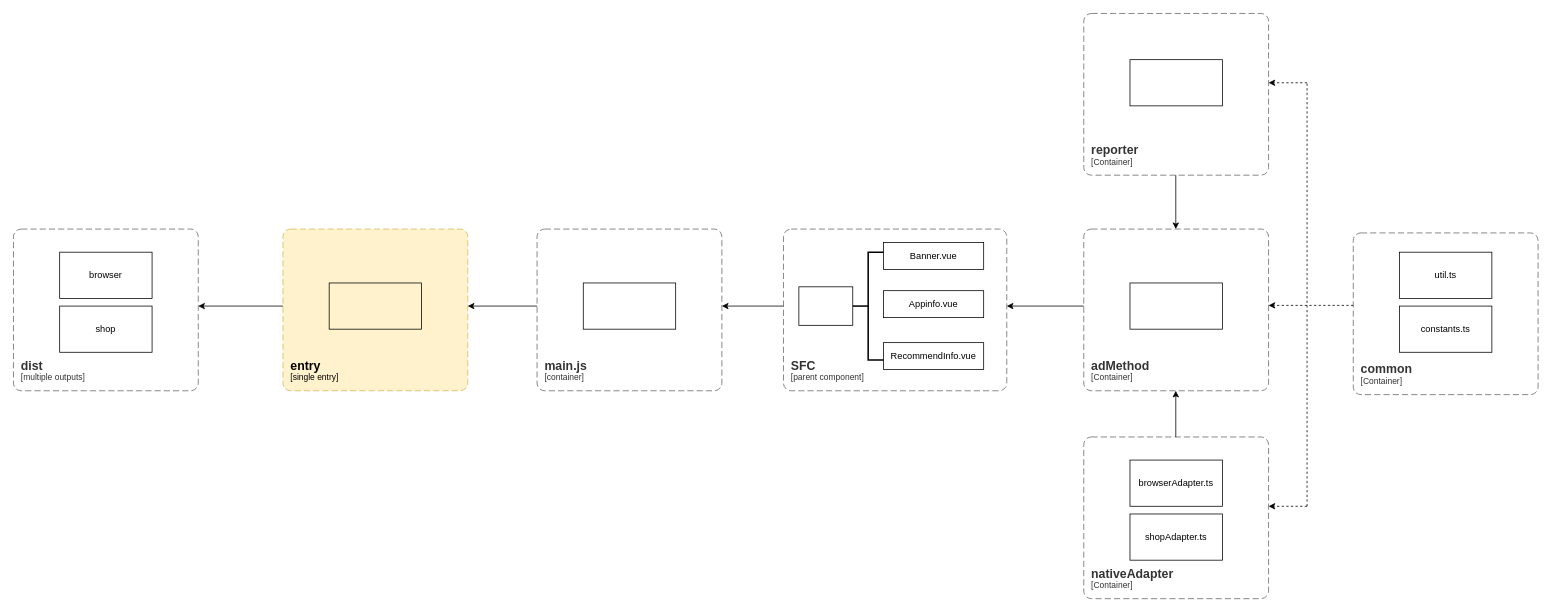
The diagram is 1552 pixels wide and 612 high, and some of its shapes have lost their labels. The shapes that lost their labels are listed below. From the top down, each one's centre as x and y in pixels, then its label:
point (1175, 82): baseReporter.ts
point (375, 305): index.html
point (629, 305): main.js
point (825, 305): App.vue
point (1175, 305): adMethod.ts
